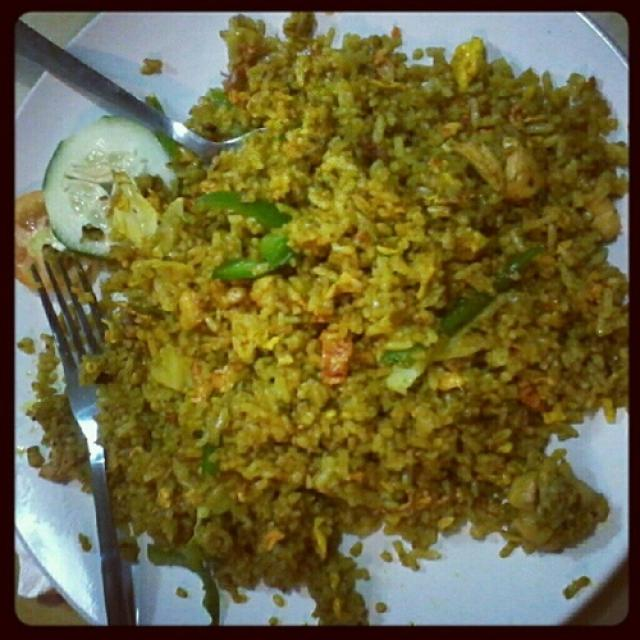米饭主食: (54, 32, 609, 613)
